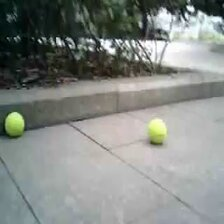tennis: (3, 112, 24, 136), (147, 118, 166, 142)
